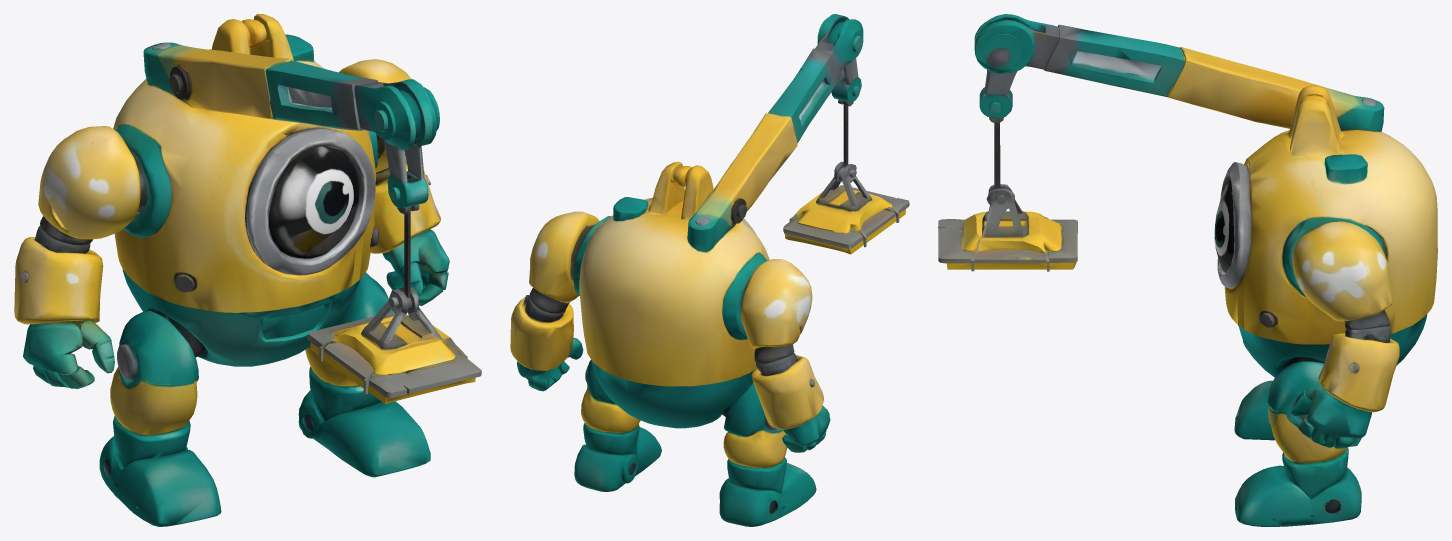
Rendered from m2BridgeKeeperBoss.glb.
The picture shows the model from 3 angles, left to right: view 1: azimuth 30°, elevation 25°; view 2: azimuth 150°, elevation 25°; view 3: azimuth 270°, elevation 25°; orthographic projection. The views are drawn at different scales.
Visible parts, largest first — view 1: model; view 2: model; view 3: model.
Part boxes in pixels (x1,y1,x2,y2): model: [14, 14, 481, 526]; model: [510, 14, 909, 526]; model: [938, 14, 1437, 526].
Bounding box in the file's own units: 1.53 × 1.84 × 1.89.
Materials: 1 (1 with a texture image).
